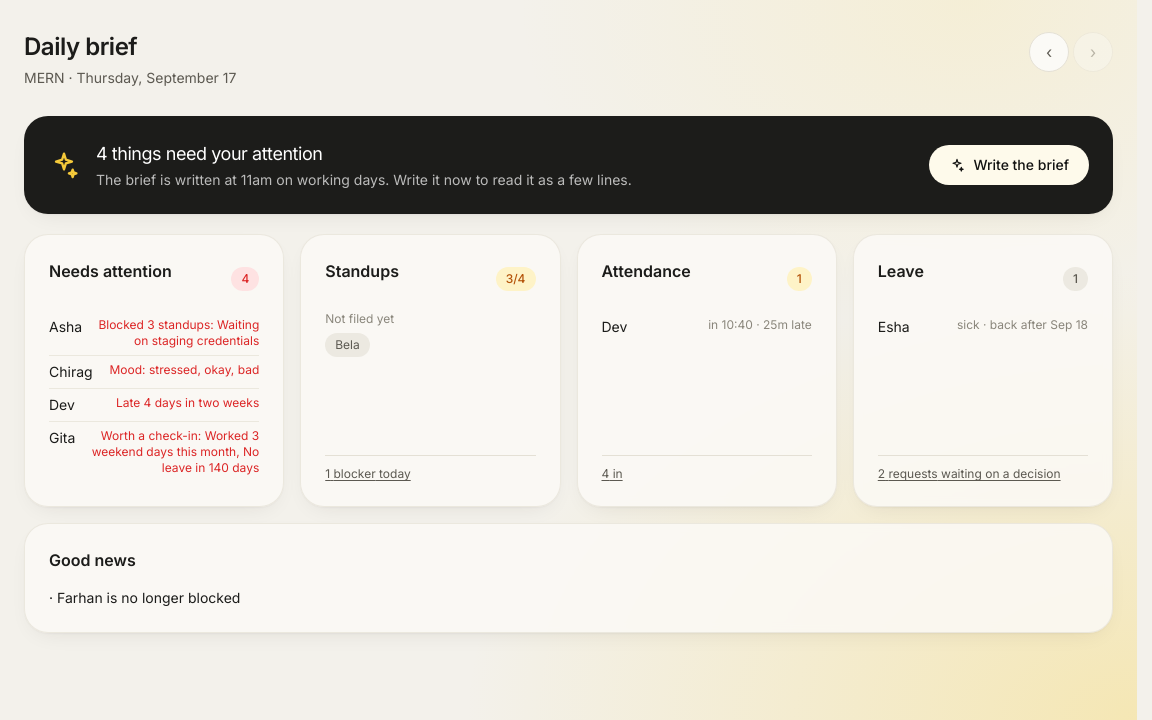
Scenario: the daily brief › says what went wrong when writing fails
Click the button "Write the brief".
click(1009, 165)  # box x1=929 y1=145 x2=1089 y2=185
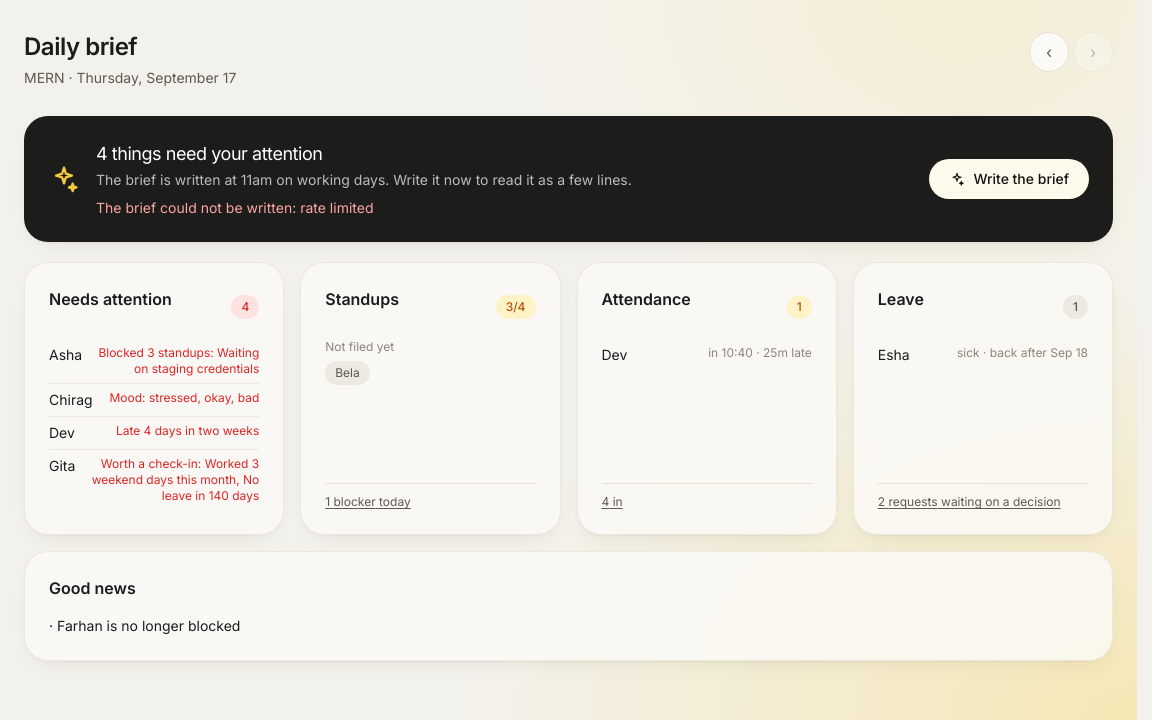
Expected: the text "The brief could not be written: rate limited" is shown, x1=96 y1=199 x2=374 y2=216
